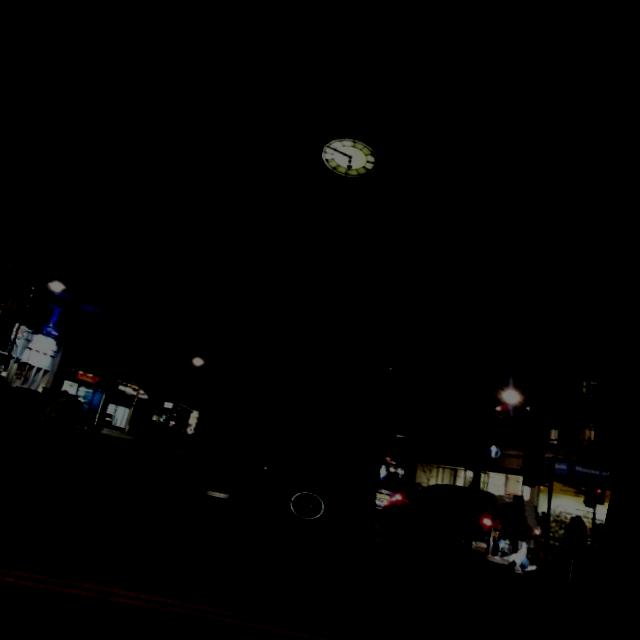Vehicle: (372, 469, 550, 568), (0, 377, 52, 441), (372, 480, 404, 520)
